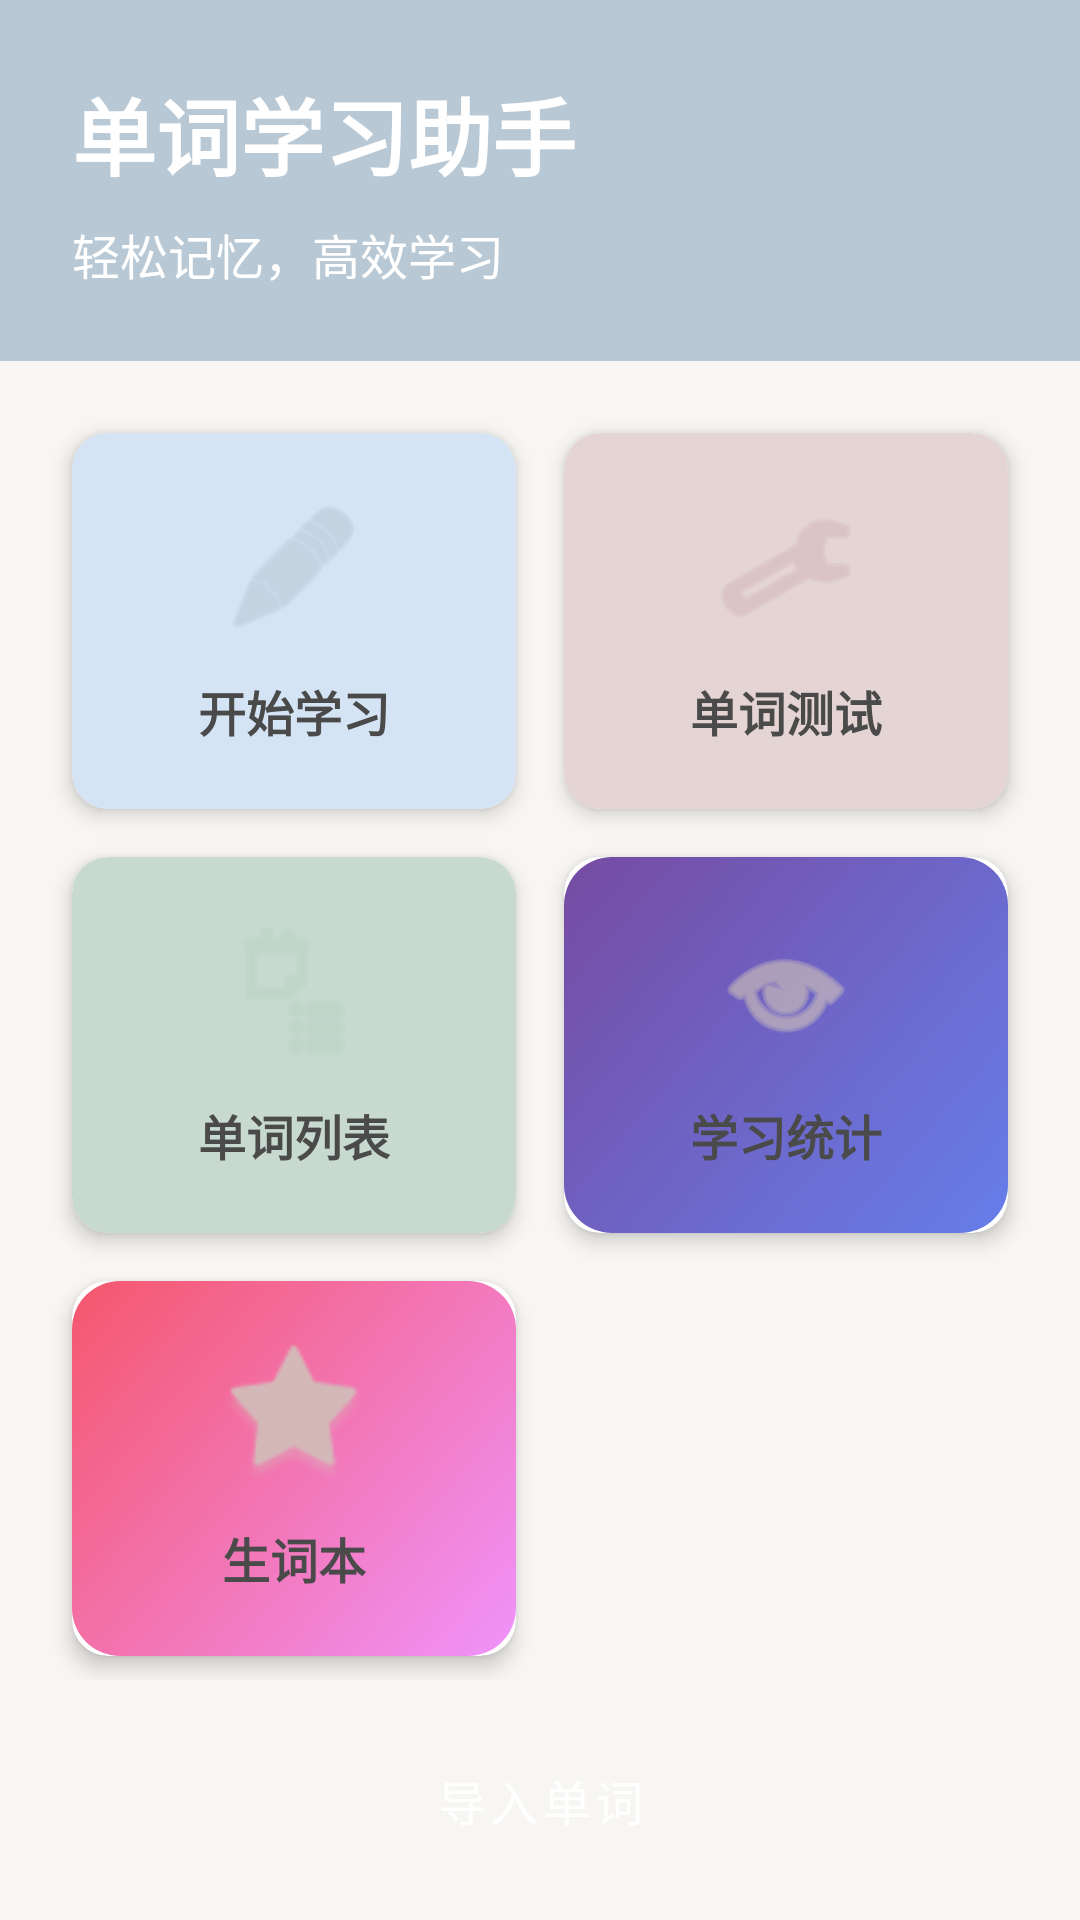

Icon bounding boxes for this 1080w x 1920h phone screenshot, format (x1, y1, x2, y2):
star on: (231, 1345, 366, 1487)
view: (728, 959, 844, 1032)
